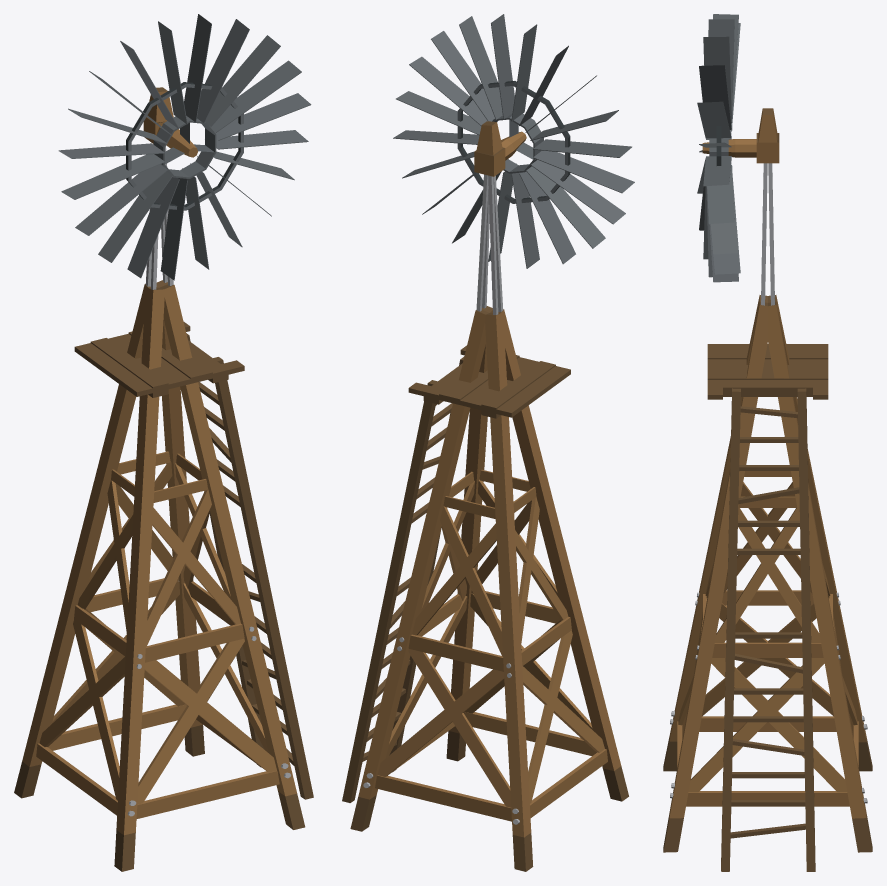
File: SM_Windmill.fbx
The picture shows the model from 3 angles, left to right: view 1: azimuth 30°, elevation 25°; view 2: azimuth 150°, elevation 25°; view 3: azimuth 270°, elevation 25°; orthographic projection. The views are drawn at different scales.
Parts seen in each view (by area): view 1: SM_Windmill_Base, SM_Windmill_Sails; view 2: SM_Windmill_Base, SM_Windmill_Sails; view 3: SM_Windmill_Base, SM_Windmill_Sails.
Boxes of the visible parts, box(x1,y1,x2,y2) form: SM_Windmill_Base: box(14, 87, 313, 871); SM_Windmill_Sails: box(58, 14, 311, 280); SM_Windmill_Base: box(342, 120, 628, 871); SM_Windmill_Sails: box(393, 14, 634, 268); SM_Windmill_Base: box(663, 108, 872, 871); SM_Windmill_Sails: box(697, 14, 740, 282).
Bounding box in the file's own units: 7.5 × 5.65 × 23.32.
